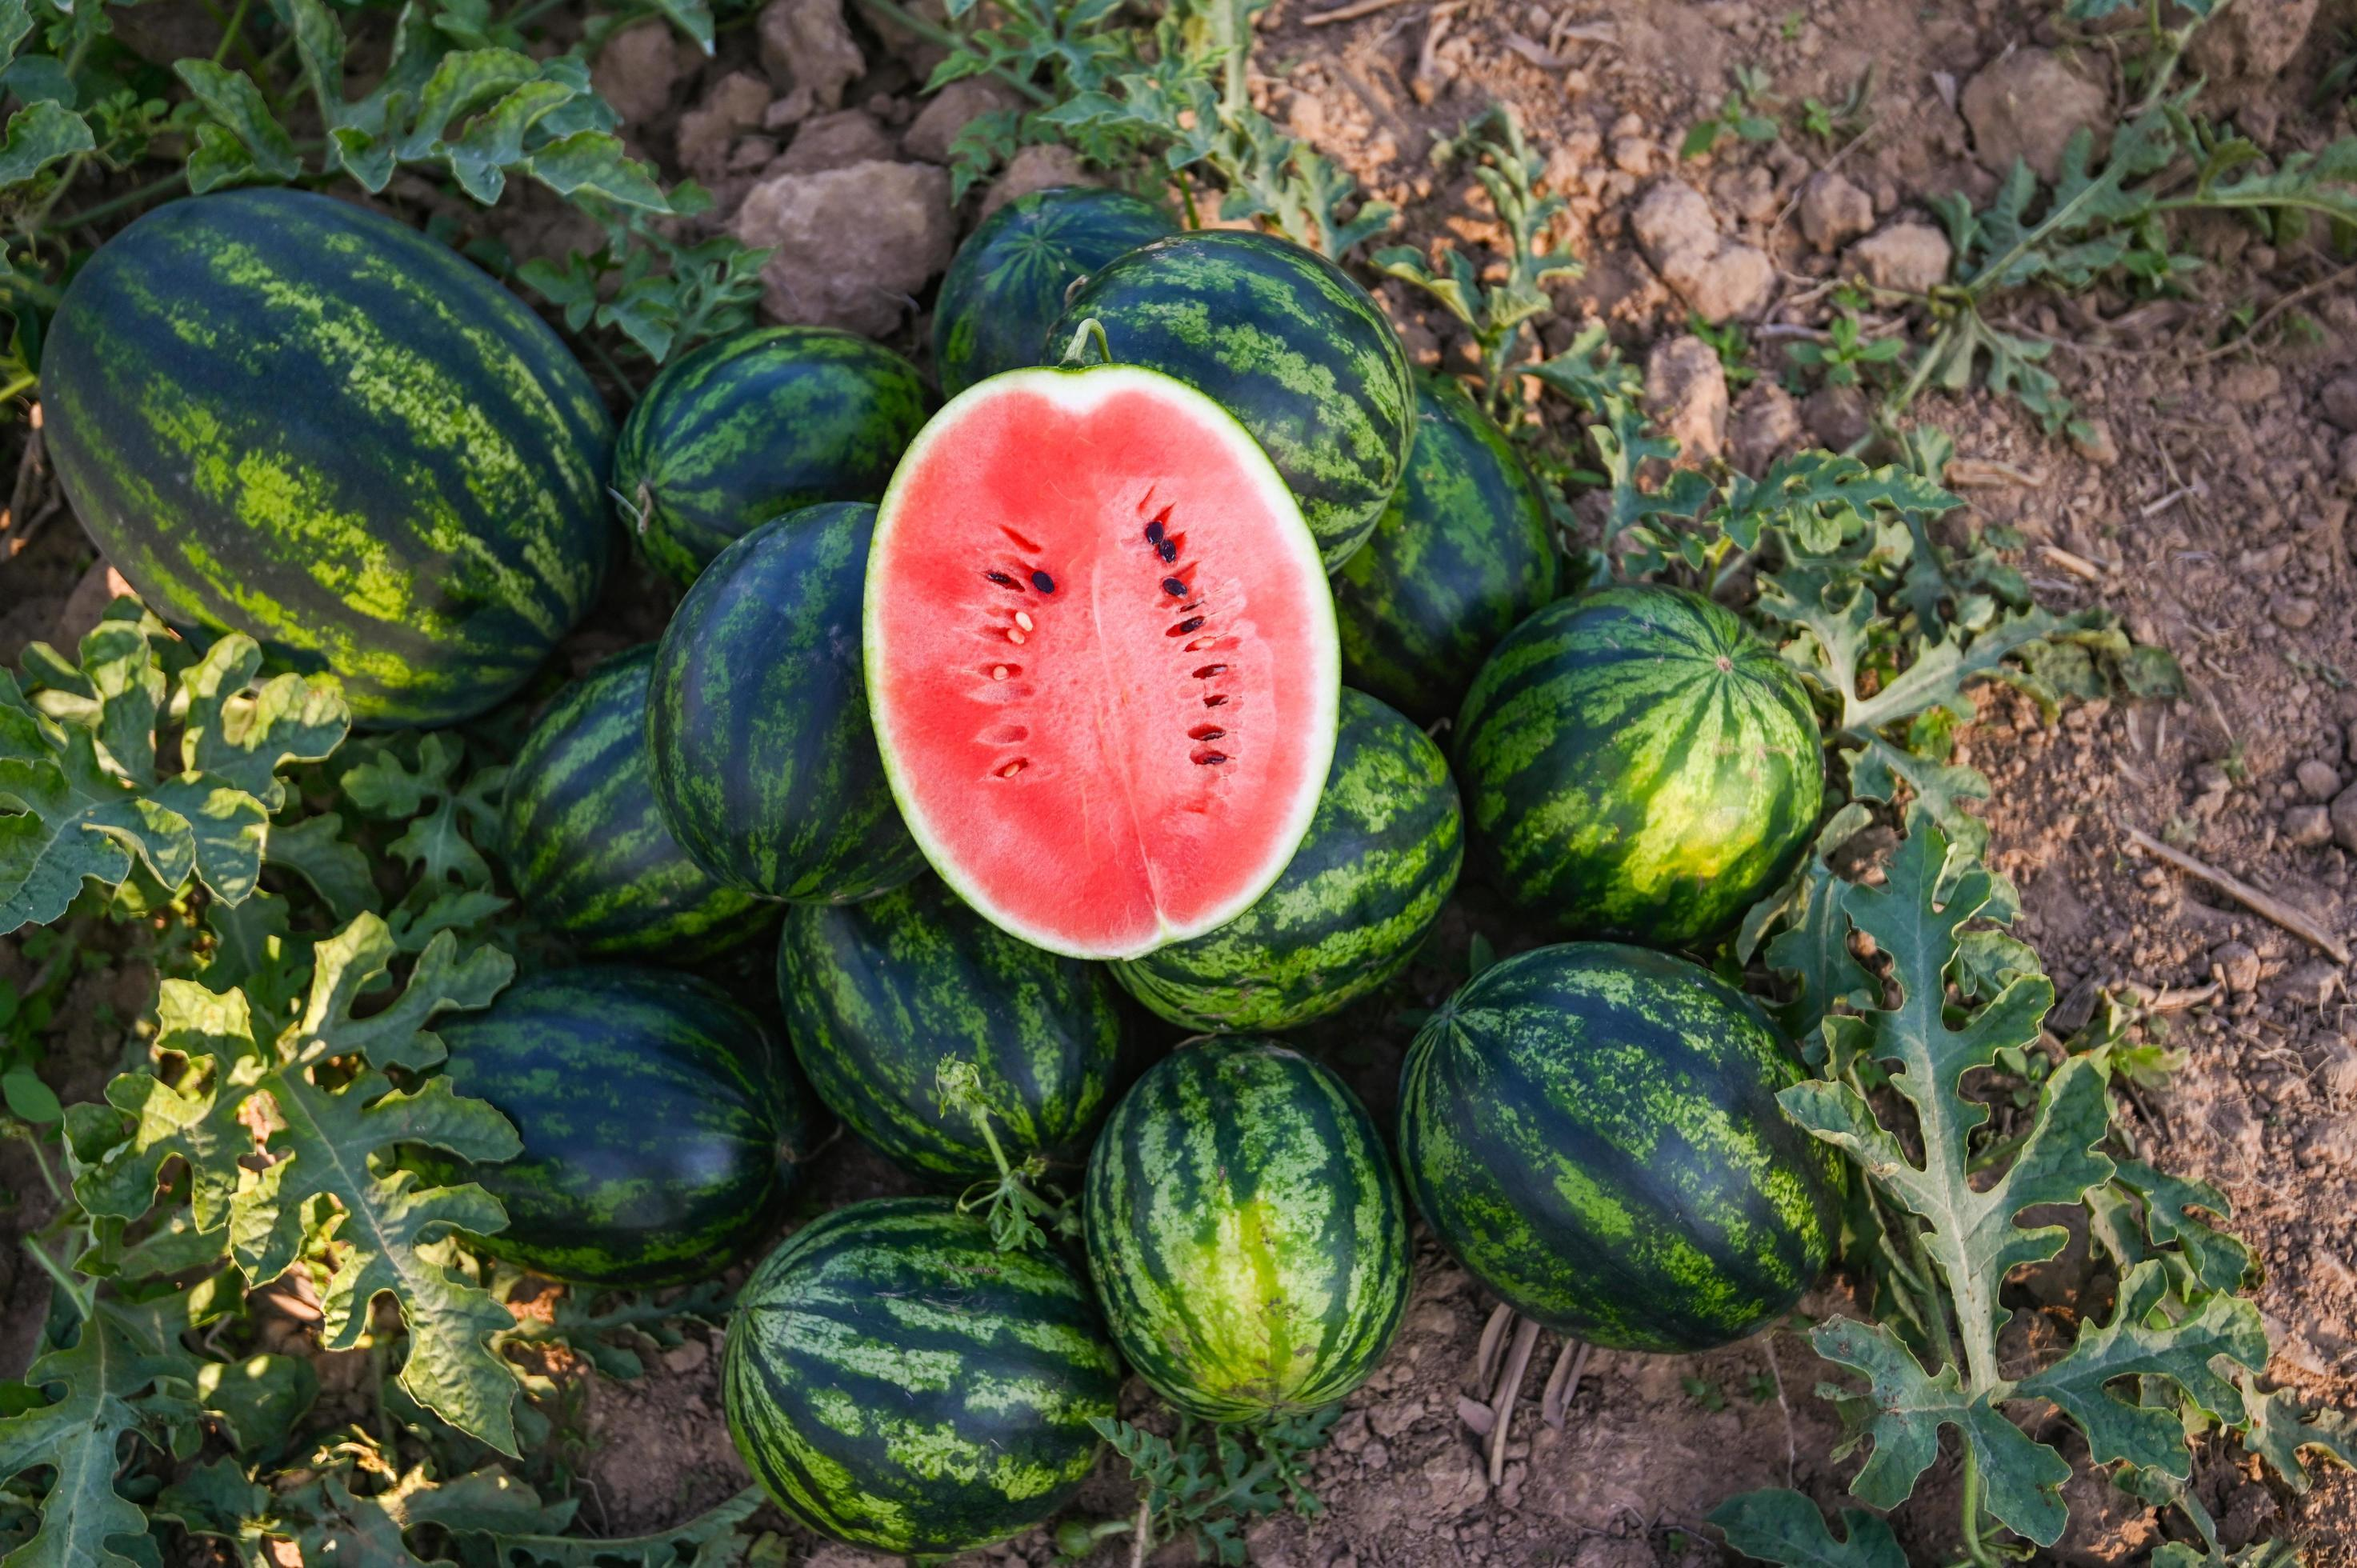watermelon: (10, 173, 637, 737), (849, 339, 1356, 968), (1393, 926, 1890, 1365), (707, 1179, 1132, 1564), (367, 947, 807, 1298), (1074, 1024, 1426, 1454), (1449, 570, 1834, 940), (754, 875, 1120, 1176), (1073, 212, 1423, 462), (646, 492, 854, 905)
